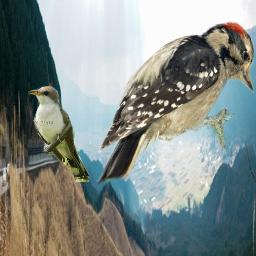Cuckoo: (28, 85, 89, 182)
Woodpecker: (83, 19, 254, 190)
